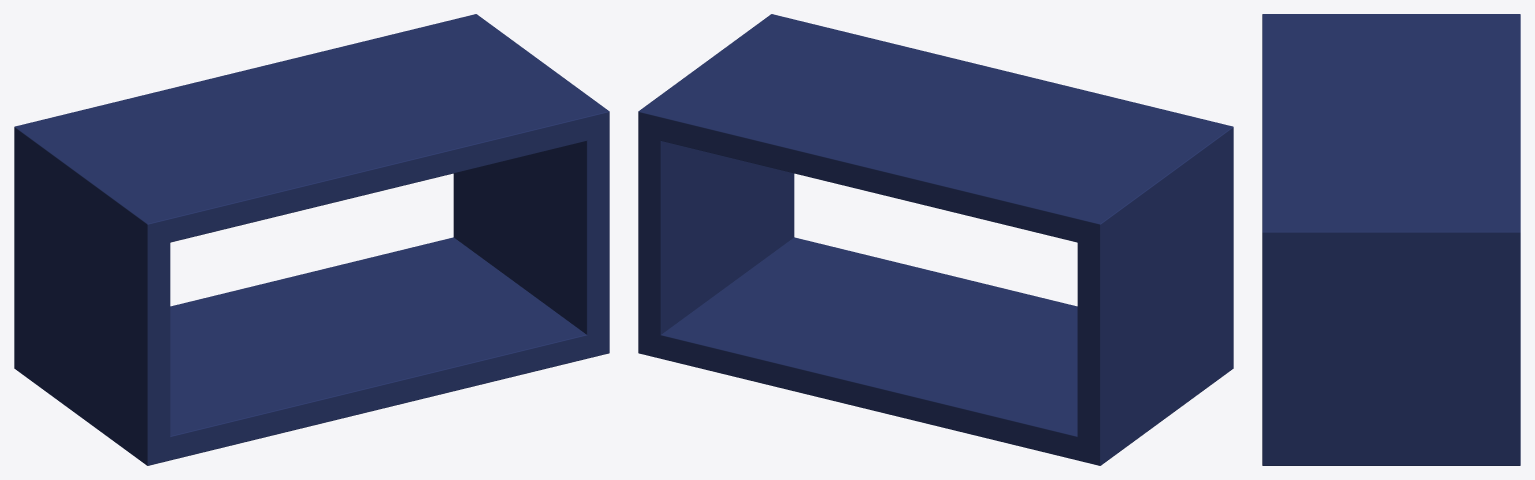
Rendered from MODH_1X05_A_O_AF.glb.
The picture shows the model from 3 angles, left to right: view 1: azimuth 30°, elevation 25°; view 2: azimuth 150°, elevation 25°; view 3: azimuth 270°, elevation 25°; orthographic projection. The views are drawn at different scales.
Bounding box in the file's own units: 360 × 180 × 180.
